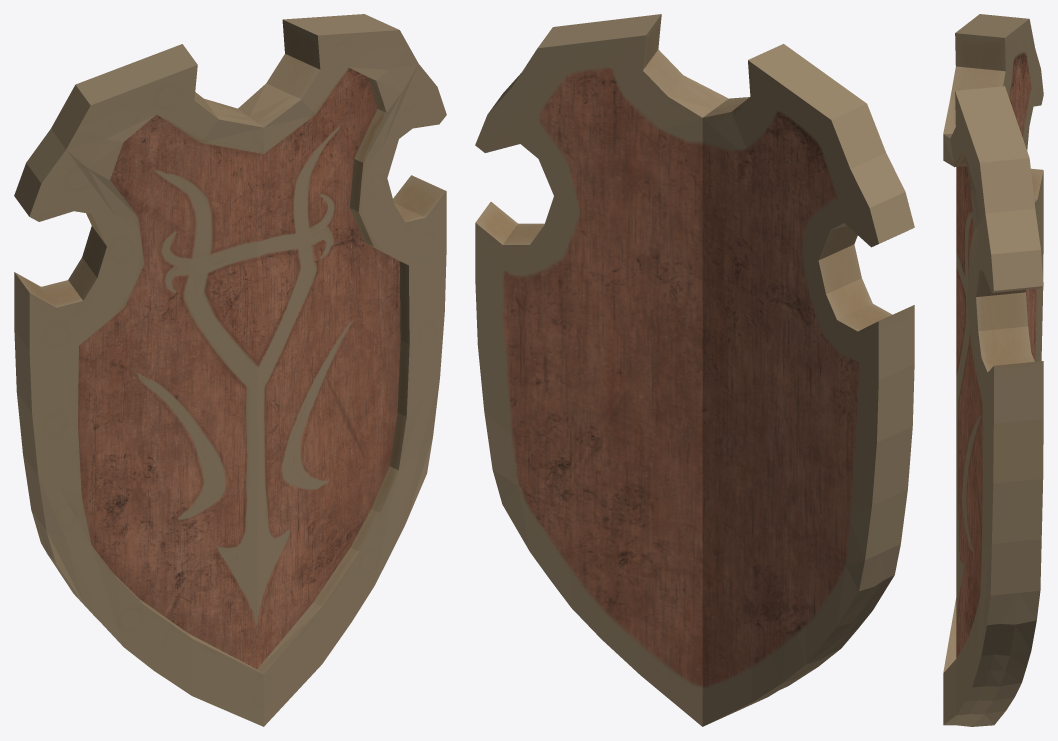
File: Bronze Kite Shield.fbx
The picture shows the model from 3 angles, left to right: view 1: azimuth 30°, elevation 25°; view 2: azimuth 150°, elevation 25°; view 3: azimuth 270°, elevation 25°; orthographic projection. The views are drawn at different scales.
Parts seen in each view (by area): view 1: Bronze_Kite_Shield; view 2: Bronze_Kite_Shield; view 3: Bronze_Kite_Shield.
Boxes of the visible parts, <box> form: Bronze_Kite_Shield: <box>14,14,446,726</box>; Bronze_Kite_Shield: <box>475,14,914,726</box>; Bronze_Kite_Shield: <box>943,14,1043,726</box>.
Bounding box in the file's own units: 110 × 170 × 23.29.
